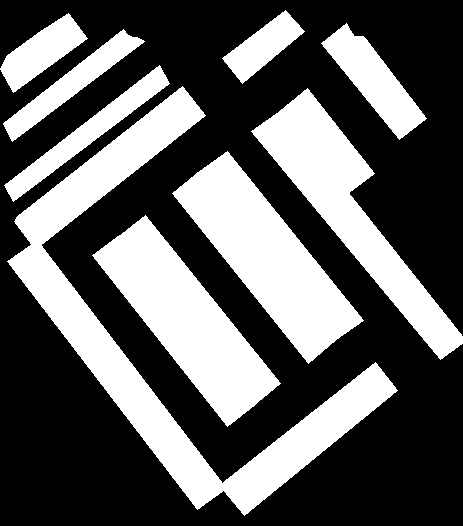parkingspot: (7, 240, 226, 509), (251, 109, 463, 359), (172, 170, 336, 363), (199, 151, 363, 341), (117, 215, 280, 406), (92, 235, 255, 426), (14, 86, 205, 249), (219, 362, 397, 515), (4, 65, 169, 201), (3, 29, 144, 141), (321, 23, 426, 139), (279, 88, 374, 194), (0, 13, 87, 92), (222, 10, 304, 83)
